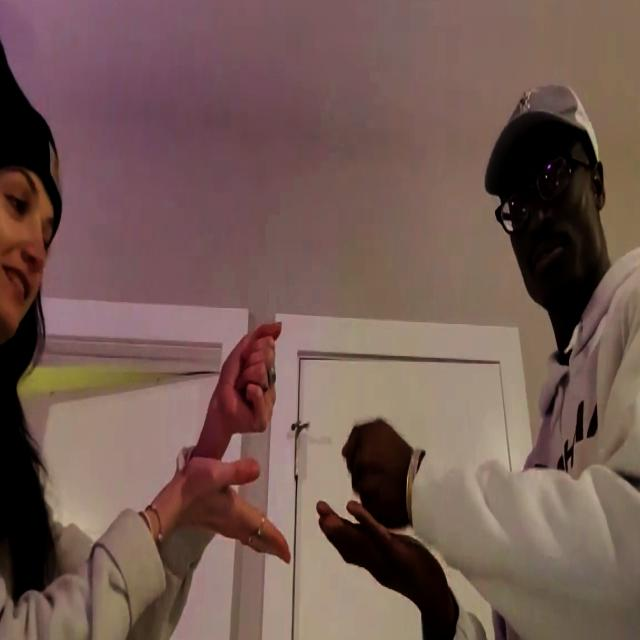Rock: (342, 414, 414, 530), (218, 323, 282, 439)
